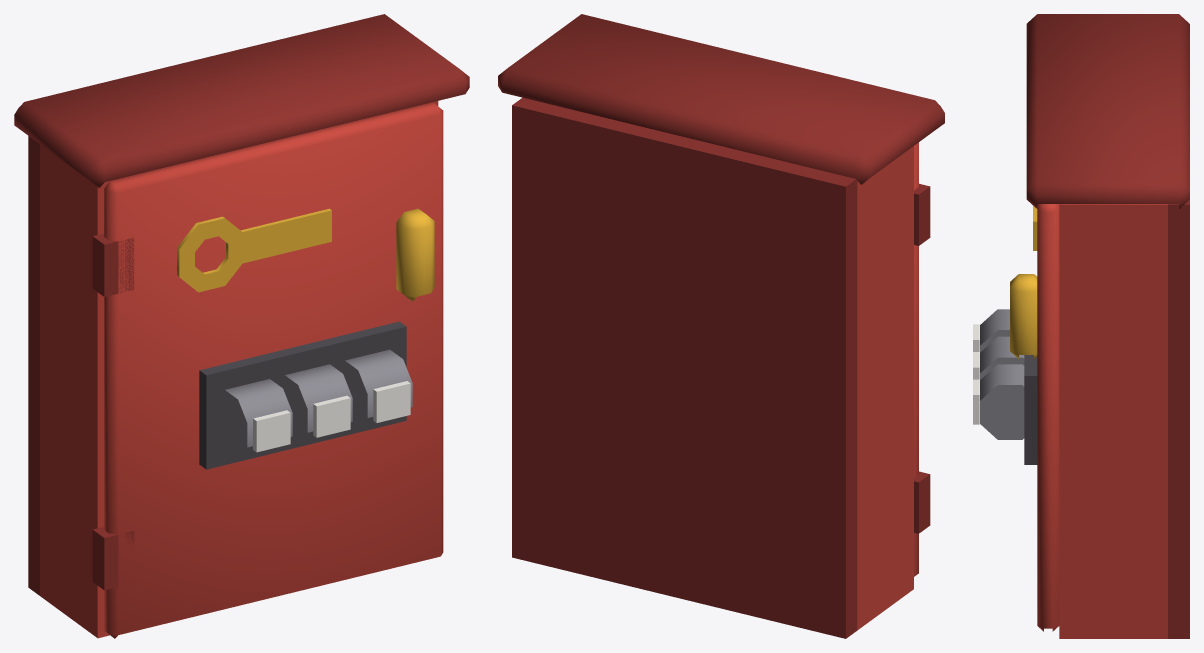
File: key_box.glb
3 renders of one model, left to right at view 1: azimuth 30°, elevation 25°; view 2: azimuth 150°, elevation 25°; view 3: azimuth 270°, elevation 25°, orthographic. The views are drawn at different scales.
Parts seen in each view (by area): view 1: door, key_box; view 2: key_box, door; view 3: key_box, door.
Part boxes in pixels (<box>): door: <box>92,102,443,638</box>; key_box: <box>14,14,469,638</box>; key_box: <box>498,14,944,638</box>; door: <box>914,142,930,576</box>; key_box: <box>1026,14,1189,638</box>; door: <box>973,204,1059,631</box>.
Bounding box in the file's own units: 0.38 × 0.47 × 0.199.
1 material, 1 textured.
